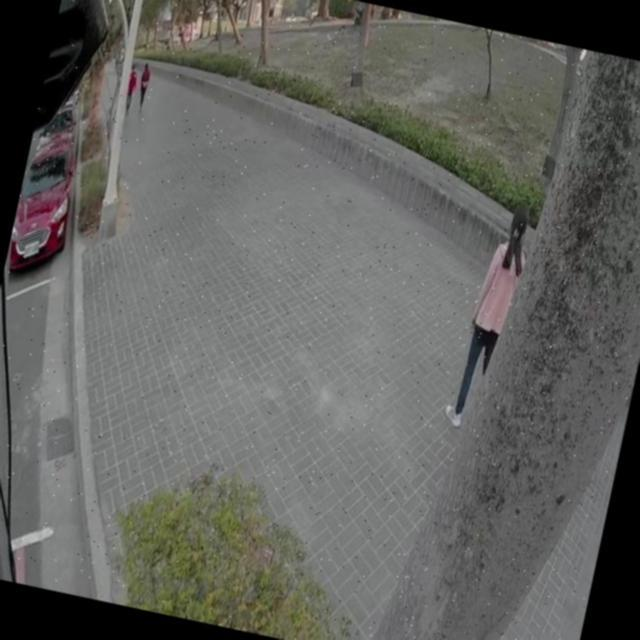person: (442, 198, 535, 434), (122, 61, 142, 112), (136, 61, 154, 113)
